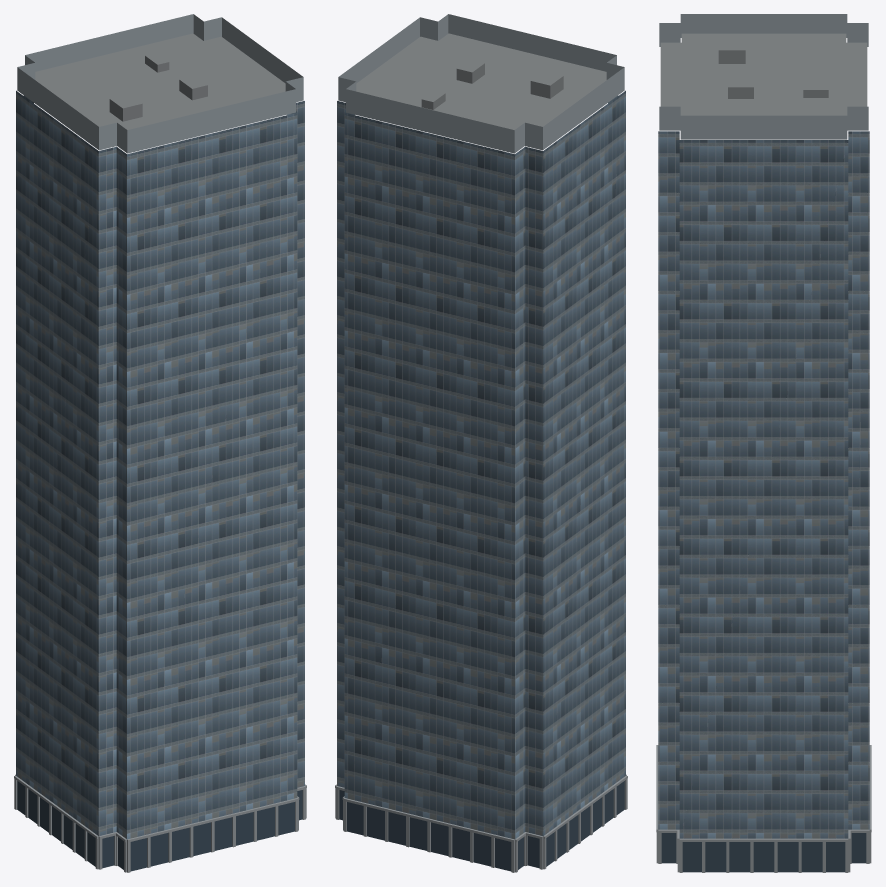
Rendered from amazon_doppler.glb.
3 views of the same model, side by side, from view 1: azimuth 30°, elevation 25°; view 2: azimuth 150°, elevation 25°; view 3: azimuth 270°, elevation 25° (orthographic).
Parts seen in each view (by area): view 1: amazon_doppler; view 2: amazon_doppler; view 3: amazon_doppler.
Boxes of the visible parts, x1,y1,x2,y2 form: amazon_doppler: (14,14,306,872); amazon_doppler: (335,14,627,872); amazon_doppler: (656,14,871,872).
Bounding box in the file's own units: 46.8 × 158 × 40.8.
2 materials, 2 textured.
